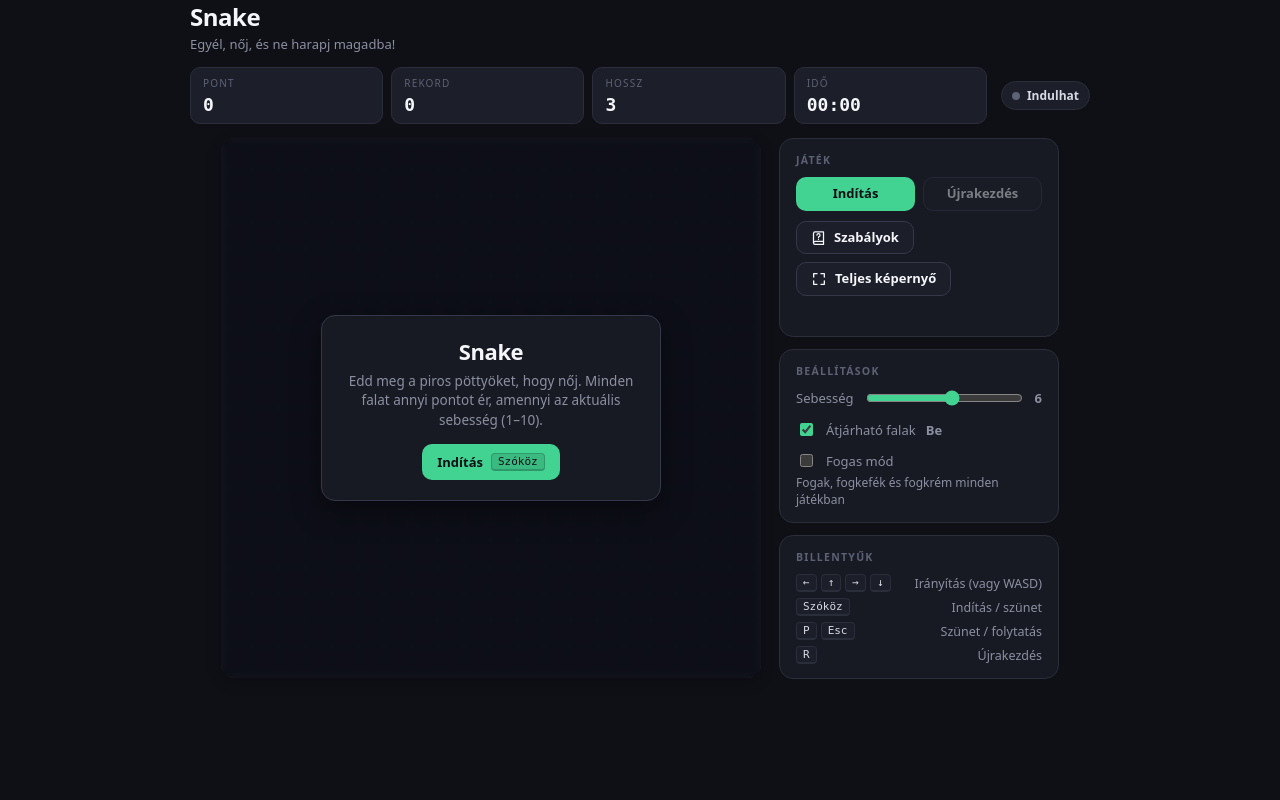
it: Snake rules dialog › prints every scoring number
What coordinates should you click on to do the following:
click the button "Szabályok"
I would click on:
 (855, 237)
Its box is 796,221 -> 914,254.
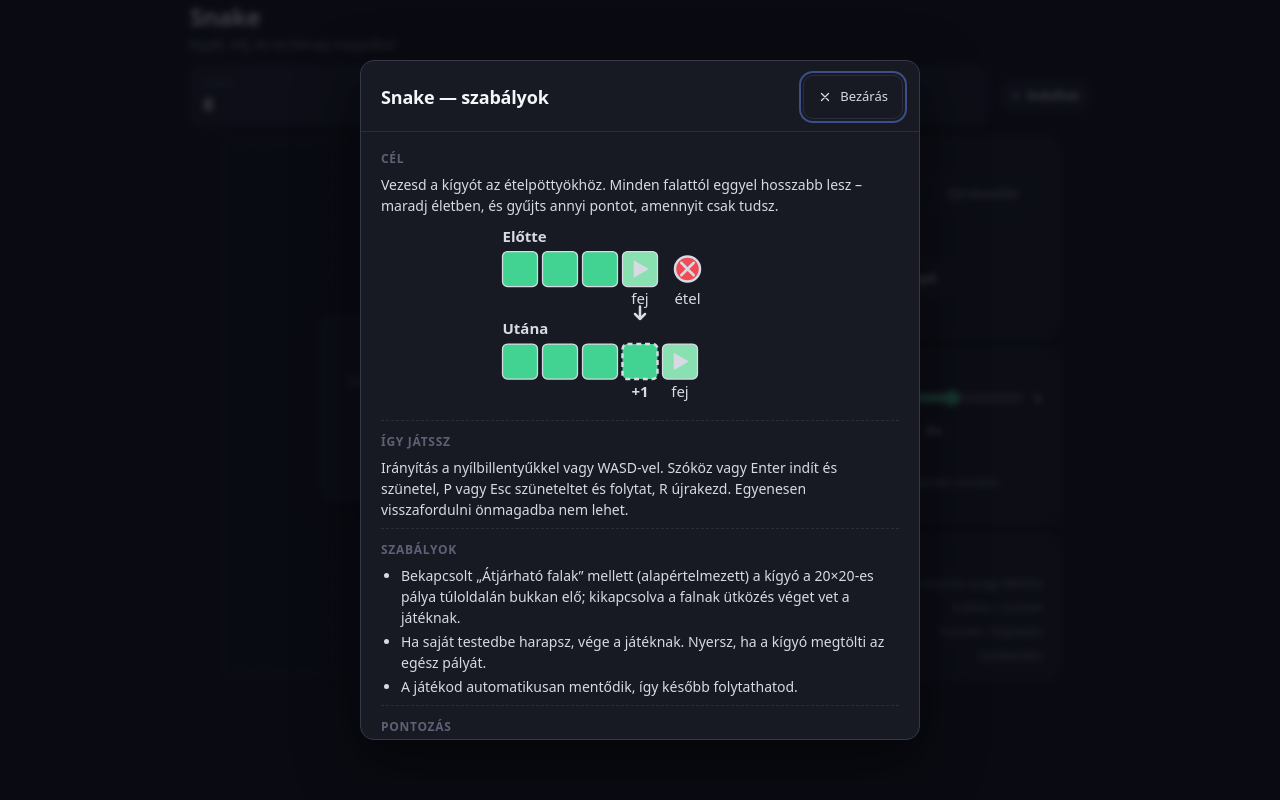
Expected: the dialog "szabályok" shows "20", 401,566 -> 874,626
